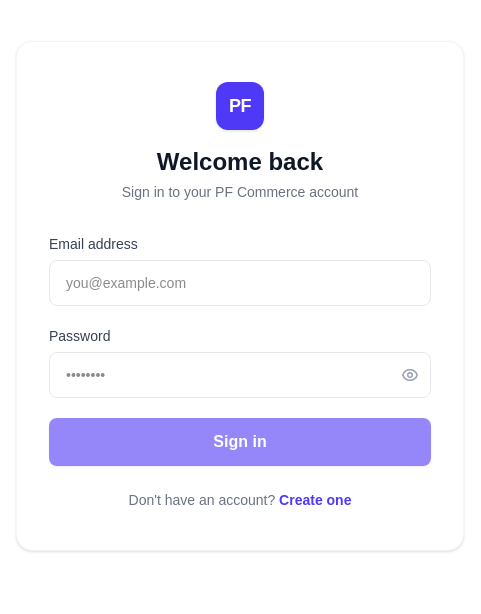
Test case: LoginPage › displays error message on login failure
The image size is (481, 614).
Type "bad@test.com" into the field labelled "Email address" at (240, 283), box [49,260,431,306]
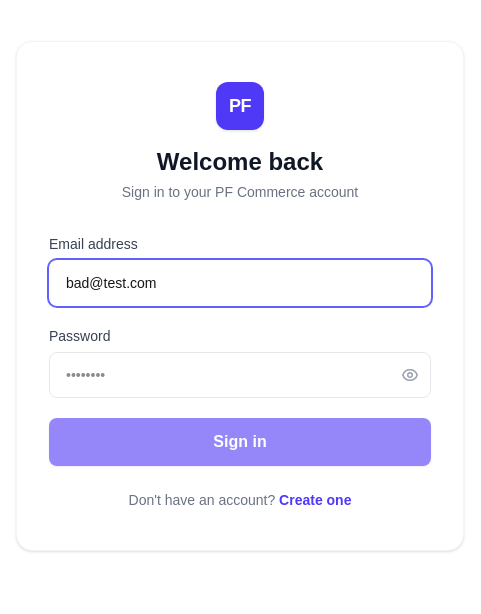
Type "wrongpw" into the password field labelled "Password" at (240, 375), box [49,352,431,398]
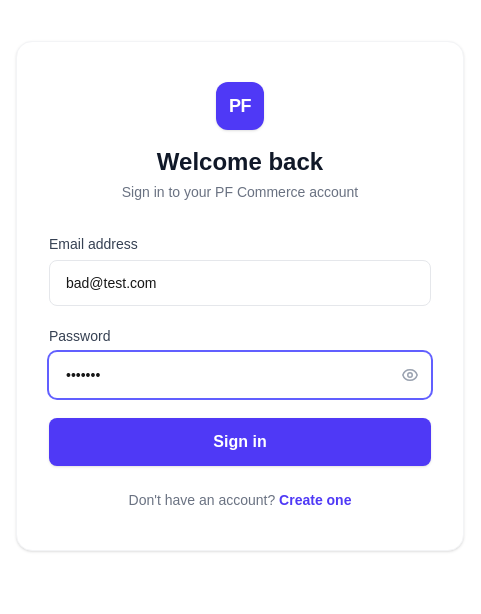
Click the button "Sign in" at (240, 442), box [49,418,431,466]
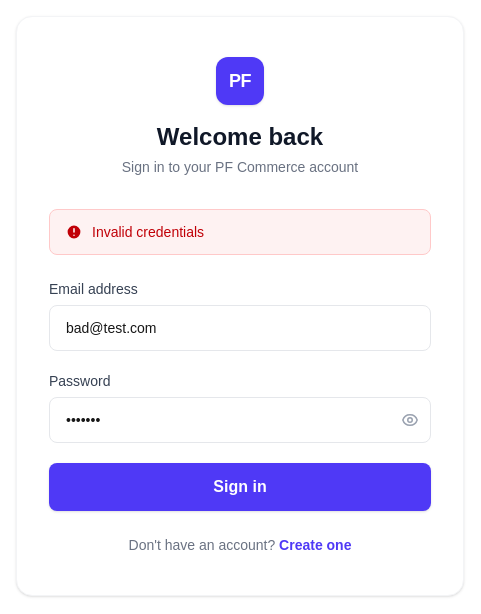
Check: the text "Invalid credentials" is shown, box [92,222,204,242]
